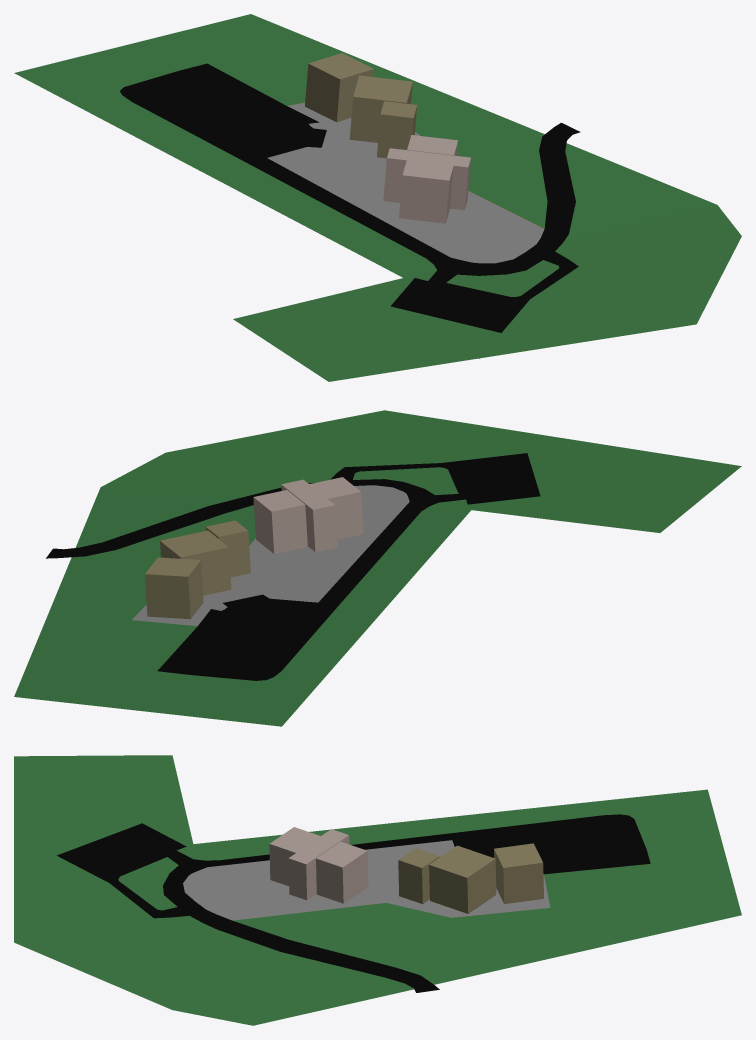
Rendered from church3.glb.
3 views of the same model, one above another, from view 1: azimuth 30°, elevation 25°; view 2: azimuth 150°, elevation 25°; view 3: azimuth 270°, elevation 25° (orthographic). The views are drawn at different scales.
Visible parts, largest first — view 1: Plane.006, churchlot; view 2: Plane.006, churchlot; view 3: Plane.006, churchlot.
Boxes of the visible parts, box(x1,y1,x2,y2) form: Plane.006: box(14, 14, 741, 381); churchlot: box(120, 53, 580, 358); Plane.006: box(14, 410, 741, 726); churchlot: box(46, 453, 540, 680); Plane.006: box(14, 755, 741, 1025); churchlot: box(57, 814, 650, 992).
Bounding box in the file's own units: 0.3613 × 0.0557 × 0.4879.
